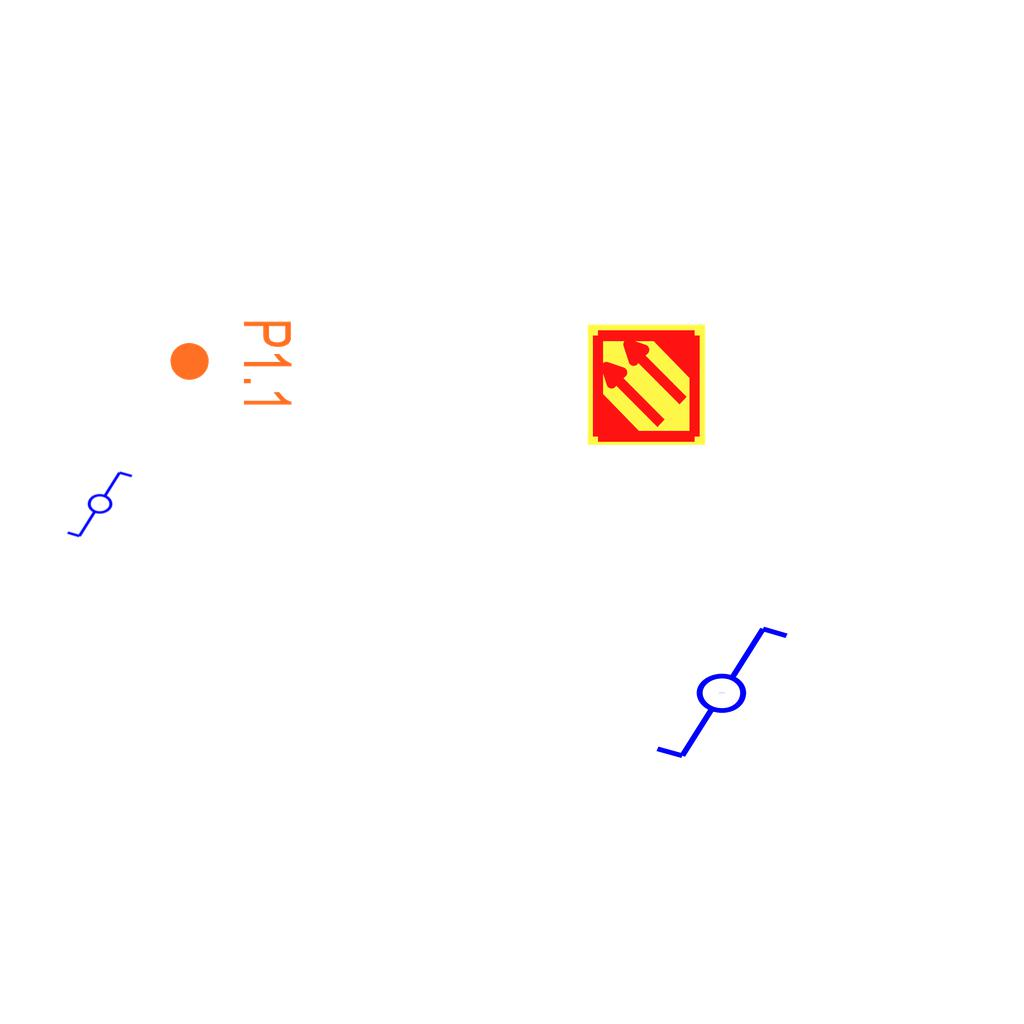ASR_Ansaugrauchmelder: (584, 322, 709, 447)
Downlight_LED_Einbauleuchten_Flur: (167, 318, 295, 411)
Wechselschalter: (635, 619, 792, 763), (65, 469, 143, 541)
